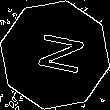N_W: (26, 30, 84, 80)
